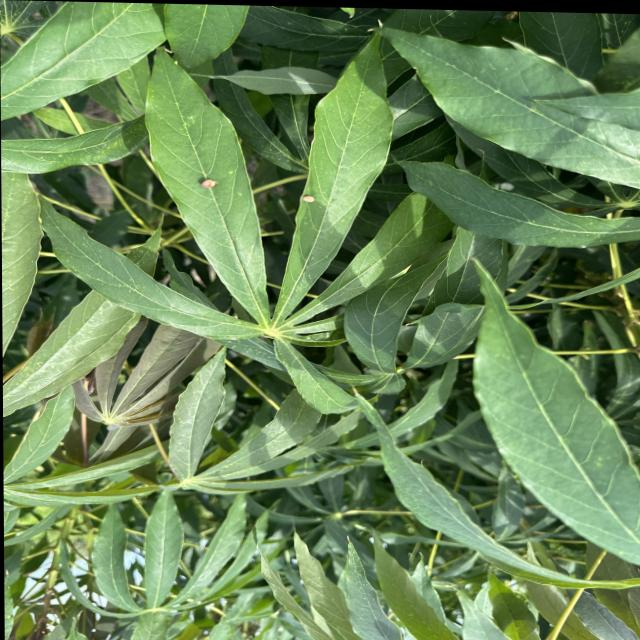Mosca: (186, 167, 222, 203), (285, 187, 325, 211)
